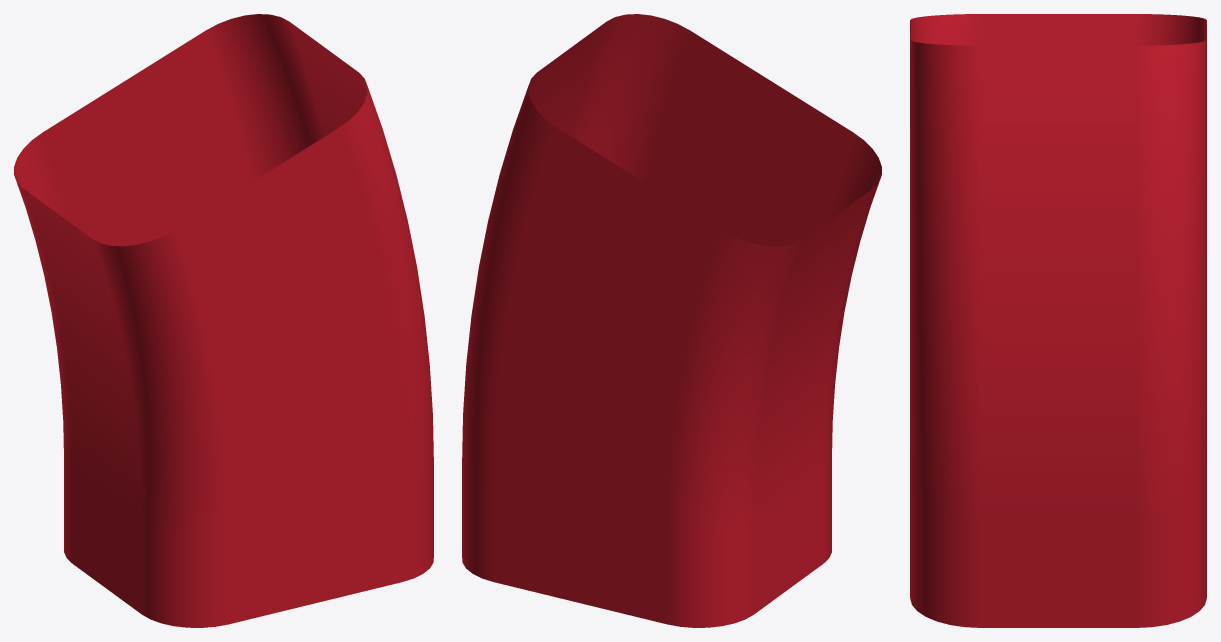
Rendered from FG_LegR.fbx.
3 views of the same model, side by side, from view 1: azimuth 30°, elevation 25°; view 2: azimuth 150°, elevation 25°; view 3: azimuth 270°, elevation 25° (orthographic). The views are drawn at different scales.
Parts seen in each view (by area): view 1: FG_LegR; view 2: FG_LegR; view 3: FG_LegR.
Boxes of the visible parts, x1,y1,x2,y2 form: FG_LegR: [14, 14, 433, 627]; FG_LegR: [462, 14, 881, 627]; FG_LegR: [910, 14, 1206, 627].
Size of the model in its own units: 3.76 by 5.28 by 2.6.
